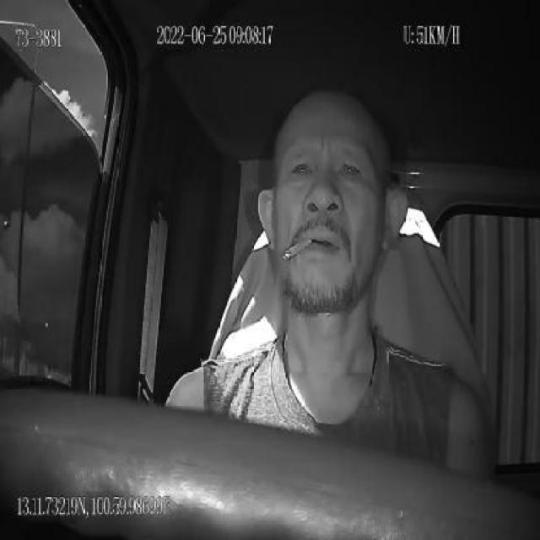smoking: (284, 235, 312, 261)
